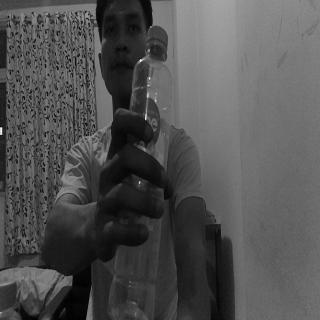plastic_bottles: (107, 21, 174, 320)
